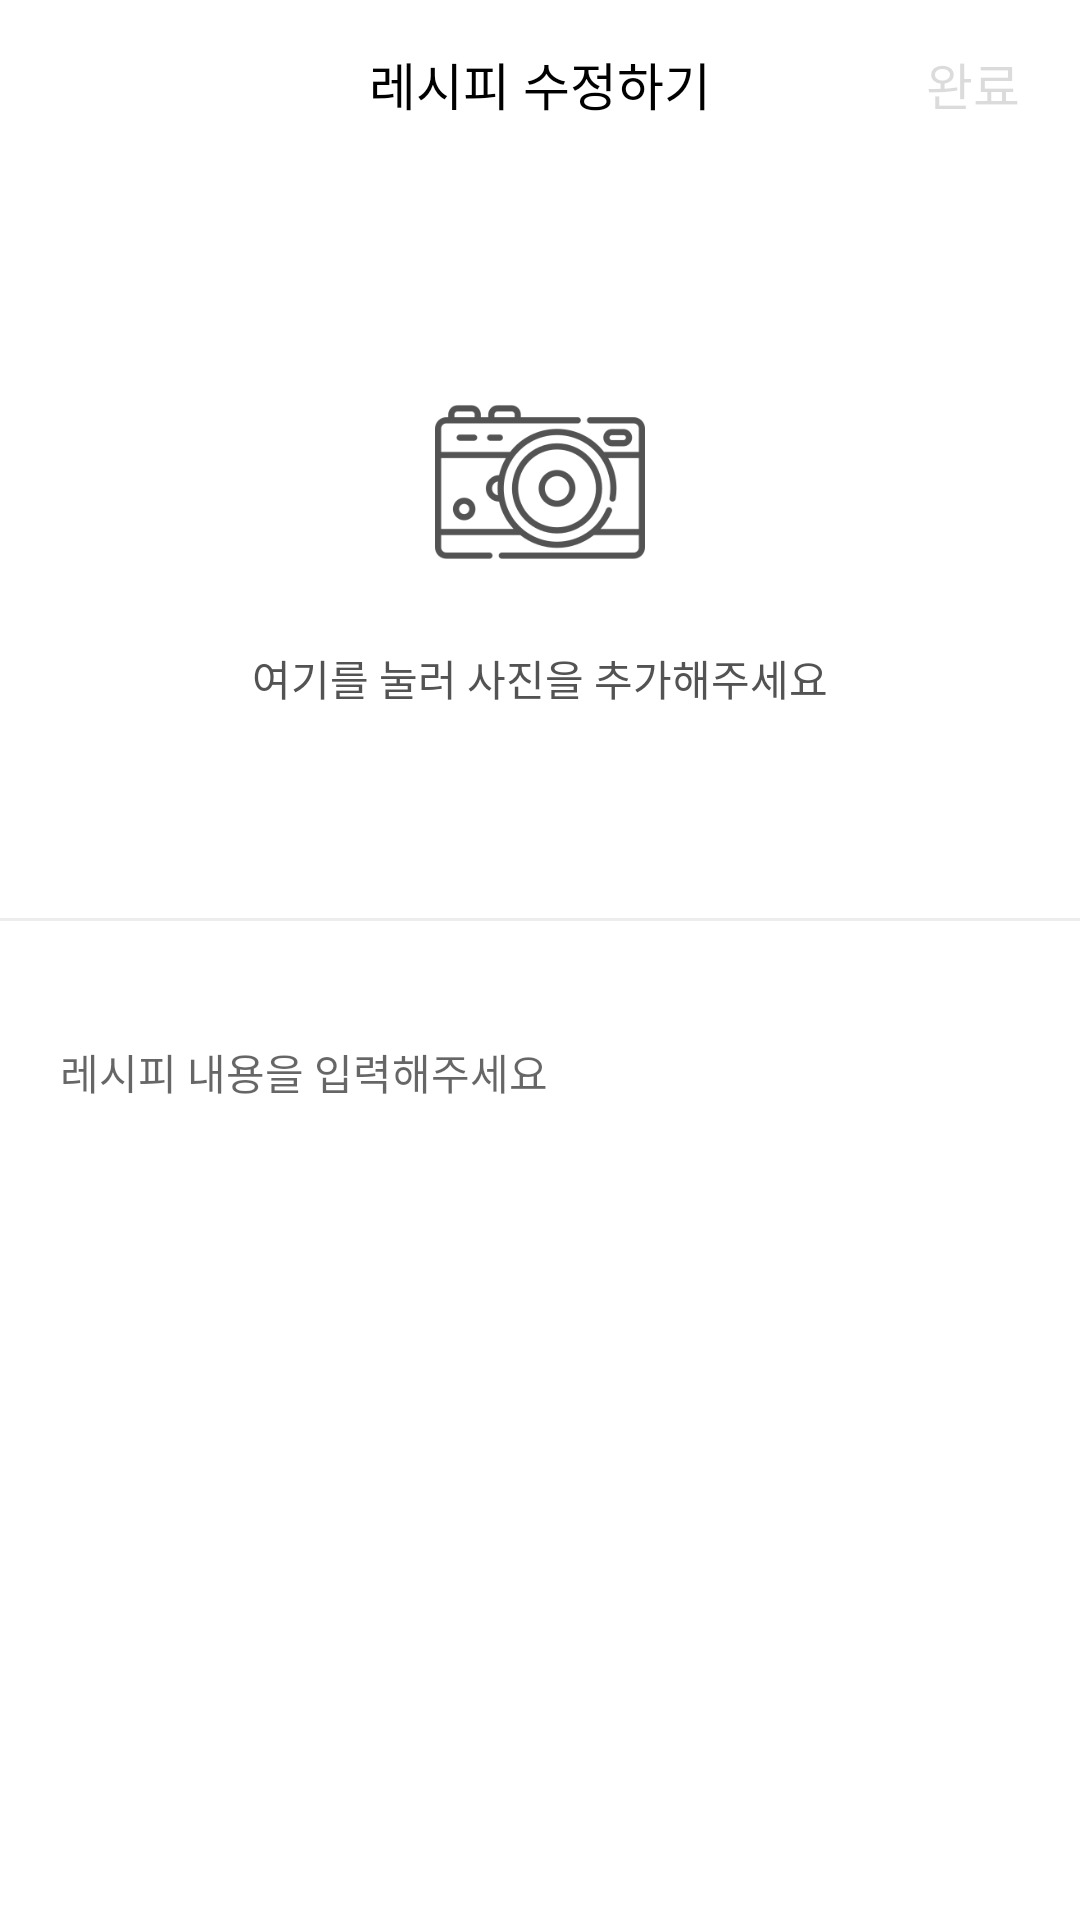

Screen size 1080x1920. Icon name, then its center in pixels as (x,y):
camera: (540,482)
